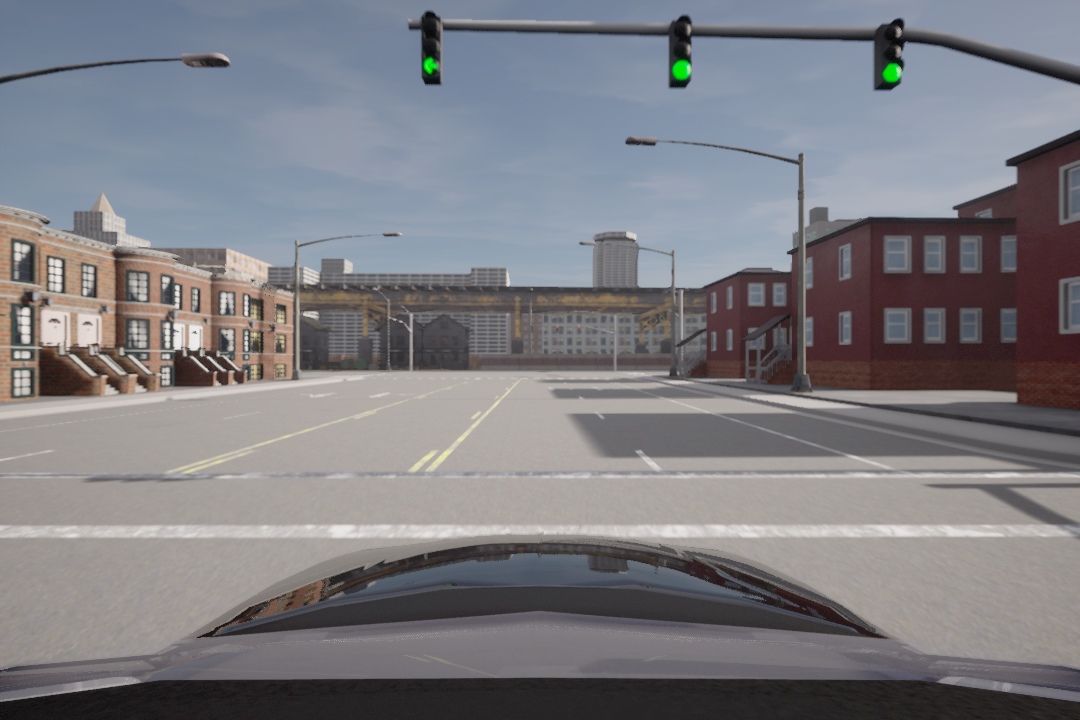TrafficLight: (869, 17, 912, 97), (659, 16, 702, 91), (414, 8, 447, 83)
